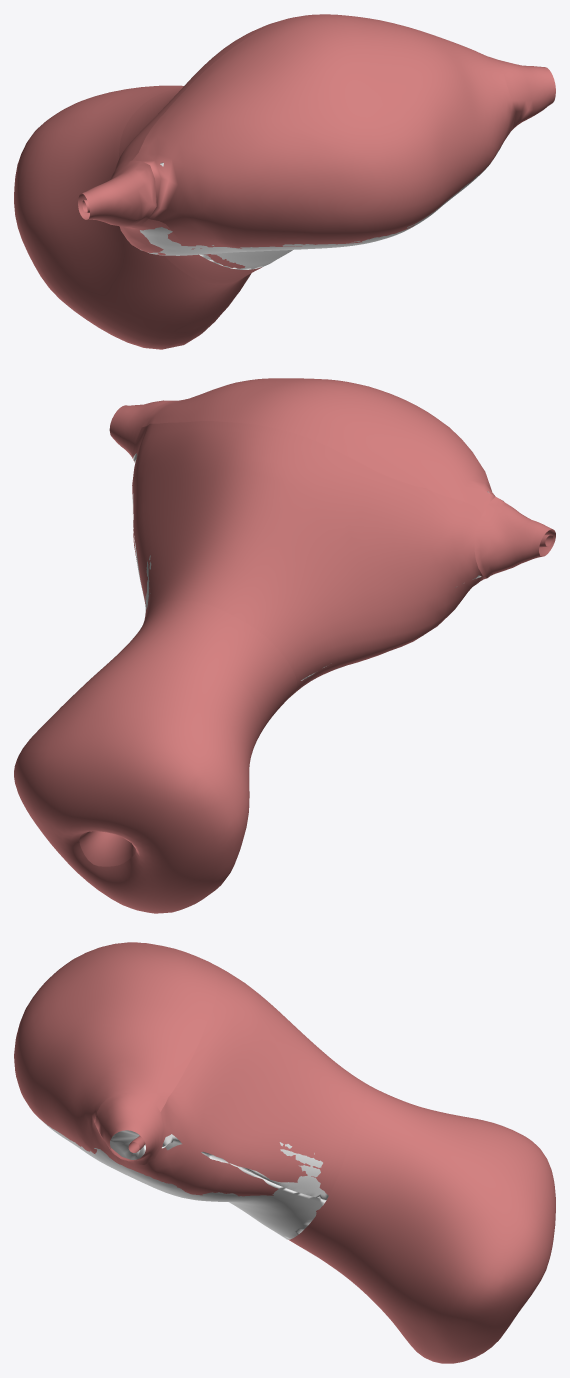
File: vh_f_uterus-100.fbx
3 views of the same model, one above another, from view 1: azimuth 30°, elevation 25°; view 2: azimuth 150°, elevation 25°; view 3: azimuth 270°, elevation 25° (orthographic). The views are drawn at different scales.
Visible parts, largest first — view 1: VH_F_fundus_of_uterus, VH_F_cervix, VH_F_cornua, VH_F_posterior_wall_of_uterus, VH_F_lower_uterine_segment, VH_F_body_of_uterus; view 2: VH_F_body_of_uterus, VH_F_cervix, VH_F_fundus_of_uterus, VH_F_lower_uterine_segment, VH_F_cornua, VH_F_external_cervical_os; view 3: VH_F_cervix, VH_F_body_of_uterus, VH_F_fundus_of_uterus, VH_F_lower_uterine_segment, VH_F_posterior_wall_of_uterus, VH_F_cornua, VH_F_anterior_wall_of_uterus.
Part boxes in pixels (box(x1,y1,x2,y2)): VH_F_fundus_of_uterus: box(132, 14, 516, 248); VH_F_cervix: box(14, 85, 251, 349); VH_F_cornua: box(78, 58, 555, 227); VH_F_posterior_wall_of_uterus: box(140, 147, 500, 269); VH_F_lower_uterine_segment: box(119, 87, 262, 285); VH_F_body_of_uterus: box(114, 18, 511, 268); VH_F_body_of_uterus: box(132, 421, 486, 694); VH_F_cervix: box(14, 642, 261, 913); VH_F_fundus_of_uterus: box(142, 378, 495, 513); VH_F_lower_uterine_segment: box(124, 600, 296, 737); VH_F_cornua: box(109, 400, 555, 578); VH_F_external_cervical_os: box(79, 831, 136, 866); VH_F_cervix: box(332, 1106, 555, 1363); VH_F_body_of_uterus: box(115, 962, 366, 1213); VH_F_fundus_of_uterus: box(14, 942, 217, 1163); VH_F_lower_uterine_segment: box(289, 1083, 419, 1266); VH_F_posterior_wall_of_uterus: box(40, 1119, 326, 1239); VH_F_cornua: box(95, 942, 164, 1164); VH_F_anterior_wall_of_uterus: box(162, 1134, 328, 1199).
Bounding box in the file's own units: 5.25 × 4.7 × 5.87.
